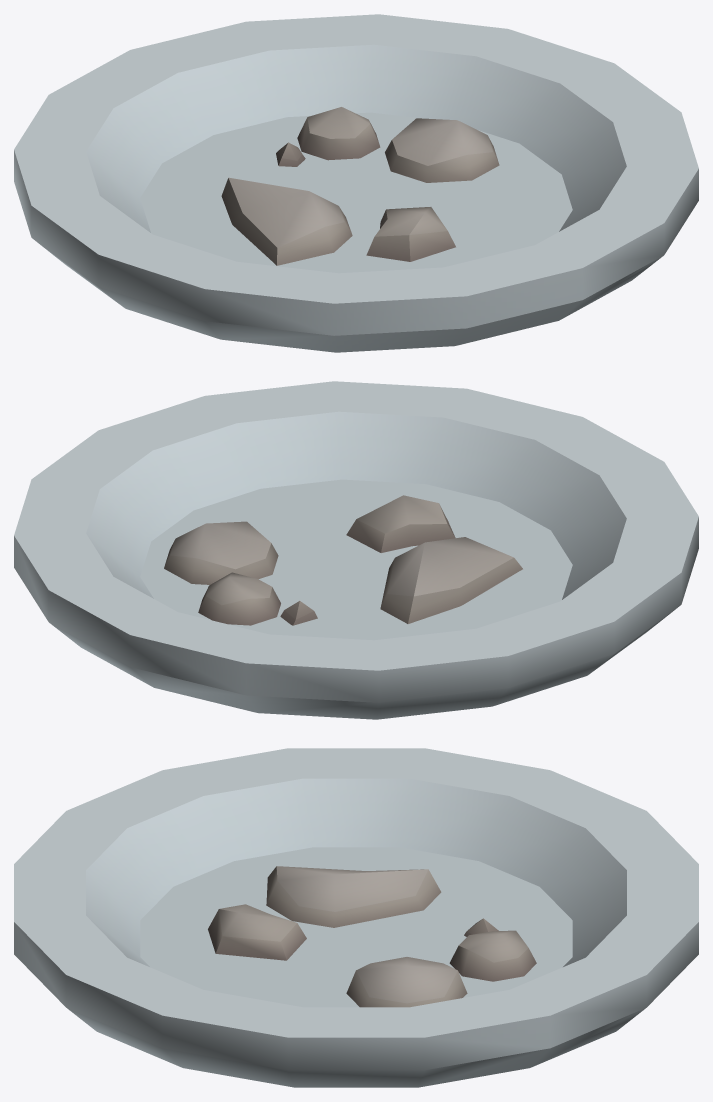
File: plate_dirty.obj
The picture shows the model from 3 angles, top to bottom: view 1: azimuth 30°, elevation 25°; view 2: azimuth 150°, elevation 25°; view 3: azimuth 270°, elevation 25°; orthographic projection.
Parts seen in each view (by area): view 1: plate_dirty_Cylinder.572; view 2: plate_dirty_Cylinder.572; view 3: plate_dirty_Cylinder.572.
Boxes of the visible parts, left/top/right/bottom form: plate_dirty_Cylinder.572: left=14, top=14, right=698, bottom=352; plate_dirty_Cylinder.572: left=14, top=381, right=698, bottom=719; plate_dirty_Cylinder.572: left=14, top=748, right=698, bottom=1087.
Size of the model in its own units: 0.95 by 0.1 by 0.95.
1 material, 1 textured.
